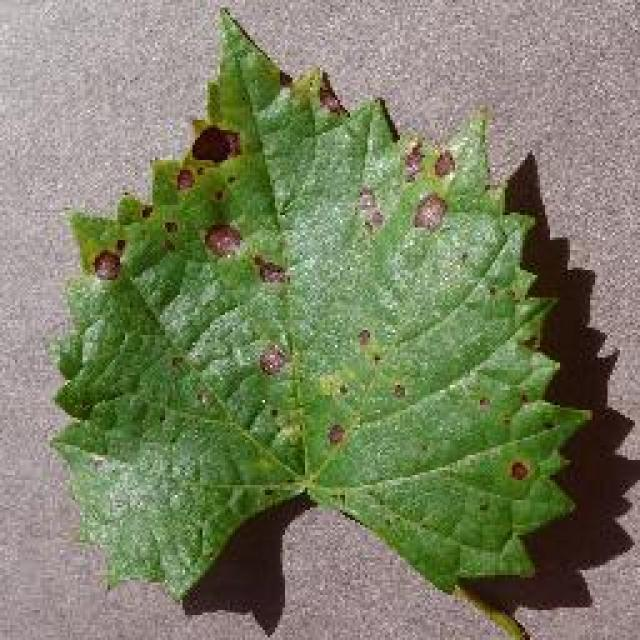Grape___Black_rot: (45, 3, 599, 638)
